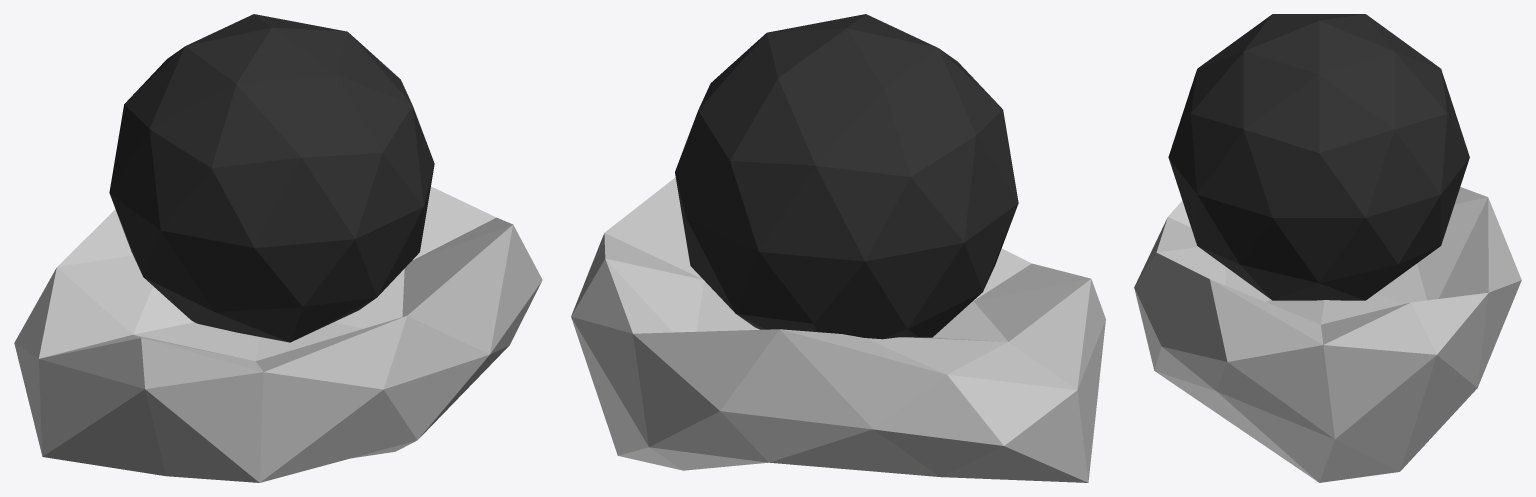
File: Char_GL_Body_Under.FBX
3 views of the same model, side by side, from view 1: azimuth 30°, elevation 25°; view 2: azimuth 150°, elevation 25°; view 3: azimuth 270°, elevation 25° (orthographic). The views are drawn at different scales.
Visible parts, largest first — view 1: GeoSphere003; view 2: GeoSphere003; view 3: GeoSphere003.
Part boxes in pixels (x1,y1,x2,y2): GeoSphere003: [14, 14, 542, 482]; GeoSphere003: [571, 14, 1105, 482]; GeoSphere003: [1134, 14, 1521, 482].
Bounding box in the file's own units: 32.95 × 30.78 × 26.75.
